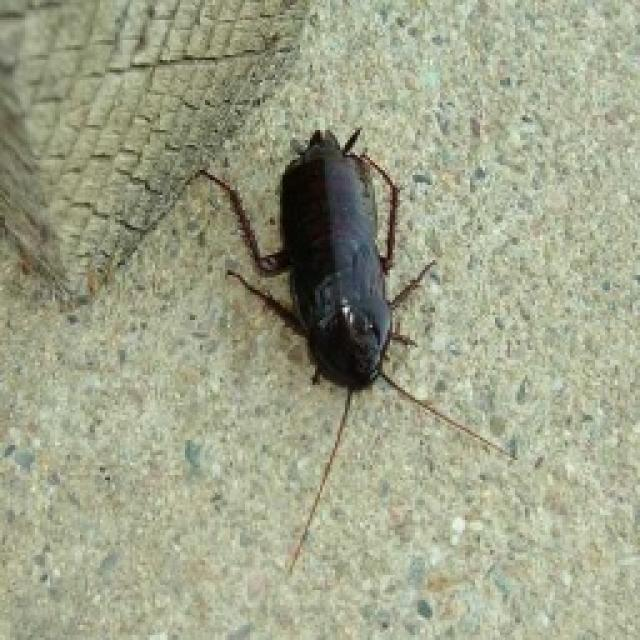cockroach: (181, 121, 522, 577)
